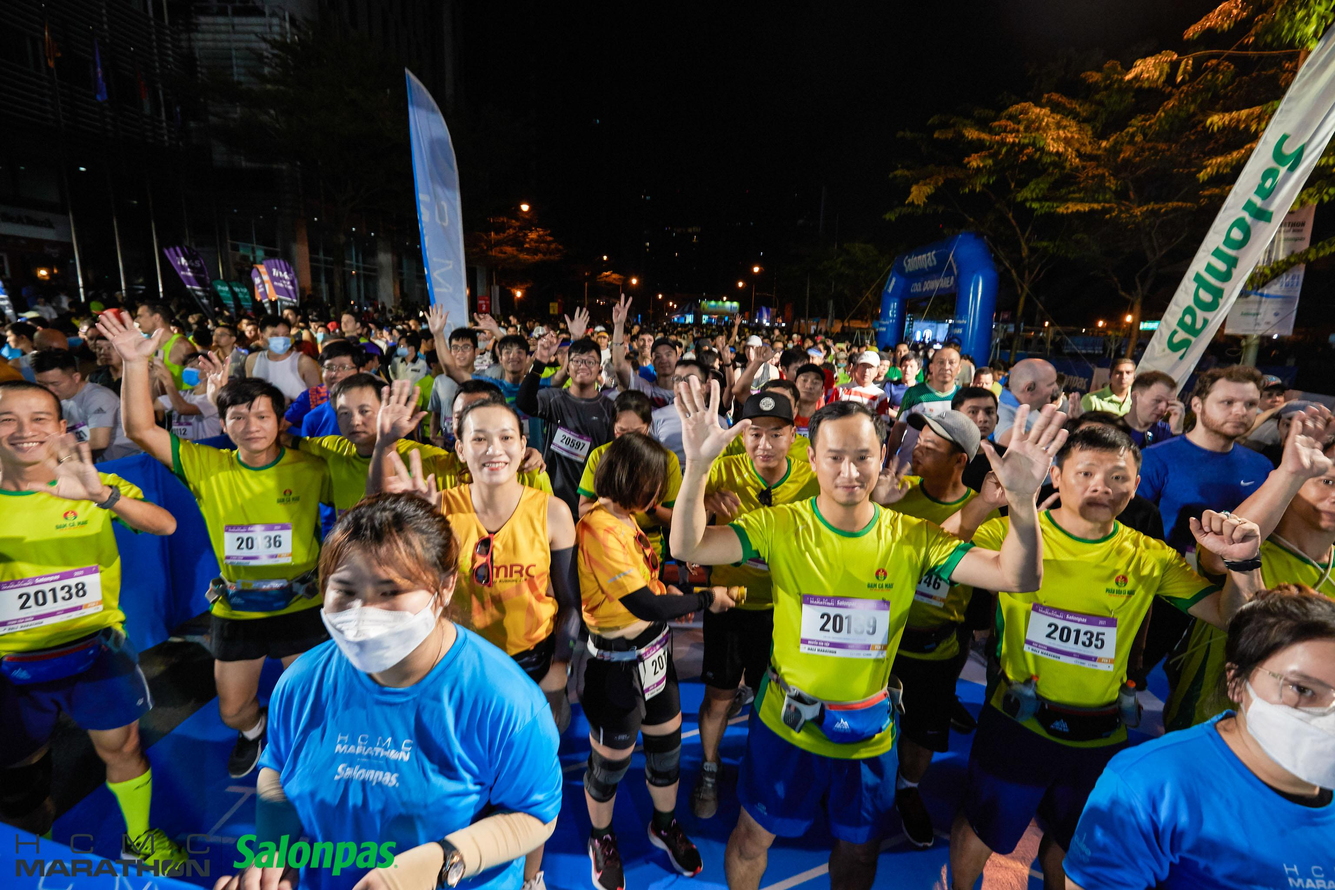bib: (0, 561, 104, 632), (1023, 601, 1116, 671), (799, 591, 890, 660), (223, 525, 292, 565), (640, 635, 669, 697), (548, 428, 590, 463), (913, 571, 950, 607), (169, 422, 195, 440)
